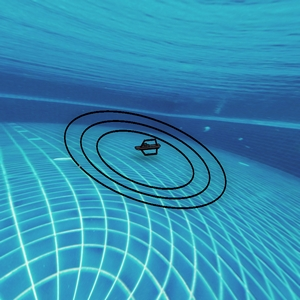circle: (63, 98, 240, 211)
submarine: (138, 140, 159, 158)
